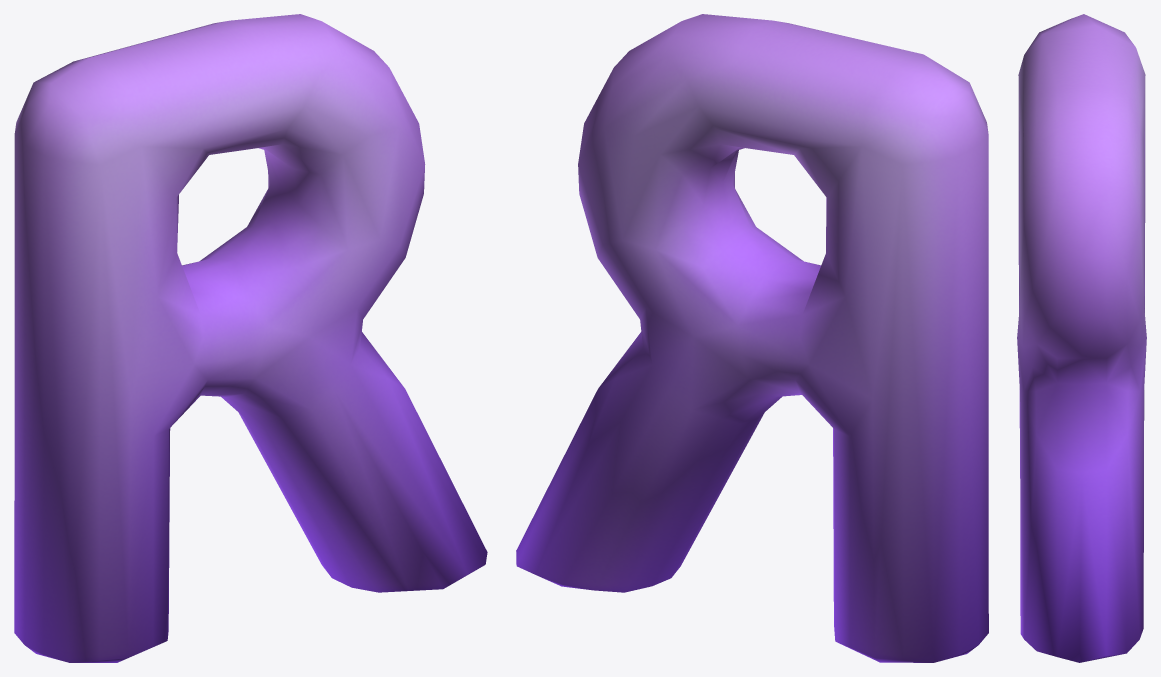
The picture shows the model from 3 angles, left to right: view 1: azimuth 30°, elevation 25°; view 2: azimuth 150°, elevation 25°; view 3: azimuth 270°, elevation 25°; orthographic projection. The views are drawn at different scales.
Visible parts, largest first — view 1: Processed_Mesh0_Geometry; view 2: Processed_Mesh0_Geometry; view 3: Processed_Mesh0_Geometry.
Part boxes in pixels (x1,y1,x2,y2): Processed_Mesh0_Geometry: (14, 14, 487, 662); Processed_Mesh0_Geometry: (516, 14, 988, 662); Processed_Mesh0_Geometry: (1017, 14, 1146, 662).
Size of what is drawn, in the model's own units: 0.0656 by 0.0803 by 0.0194.
Materials: 1 (1 with a texture image).
